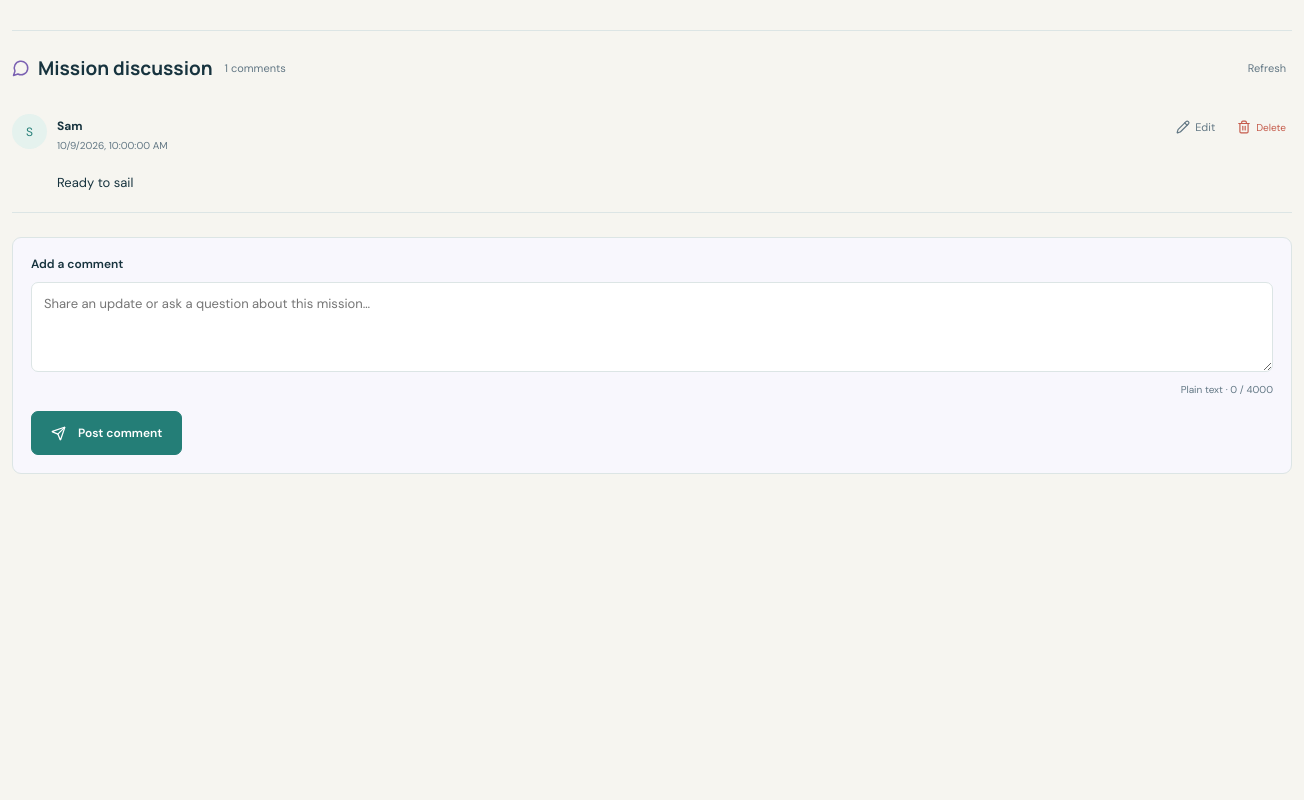
Scenario: Mission discussion › edits with the captured version and displays the edited marker
The image size is (1304, 800).
Click the button with aria-label "Edit comment by Sam" at [1196, 127], box [1170,119,1221,135]
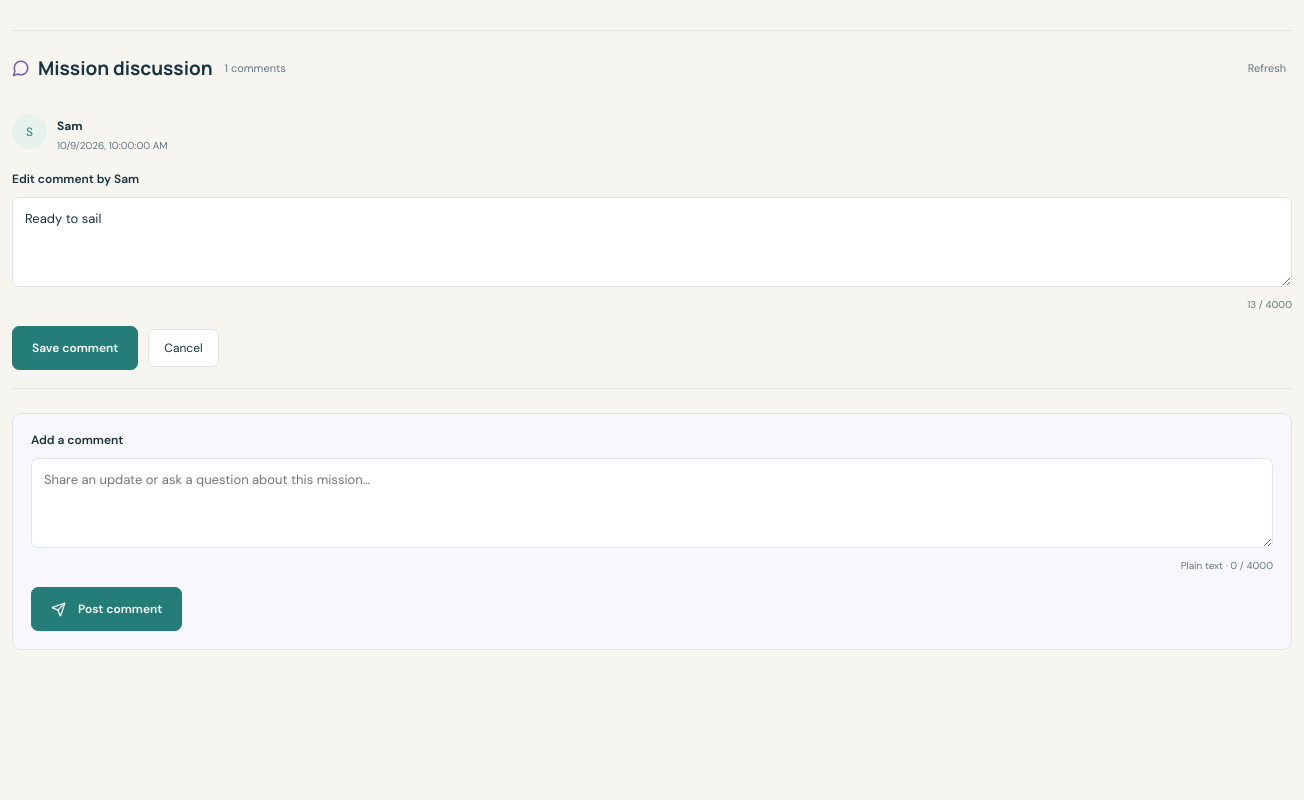
Replace the text in the text box labelled "Edit comment by Sam" with "New progress" at [652, 242], box [12,197,1292,287]
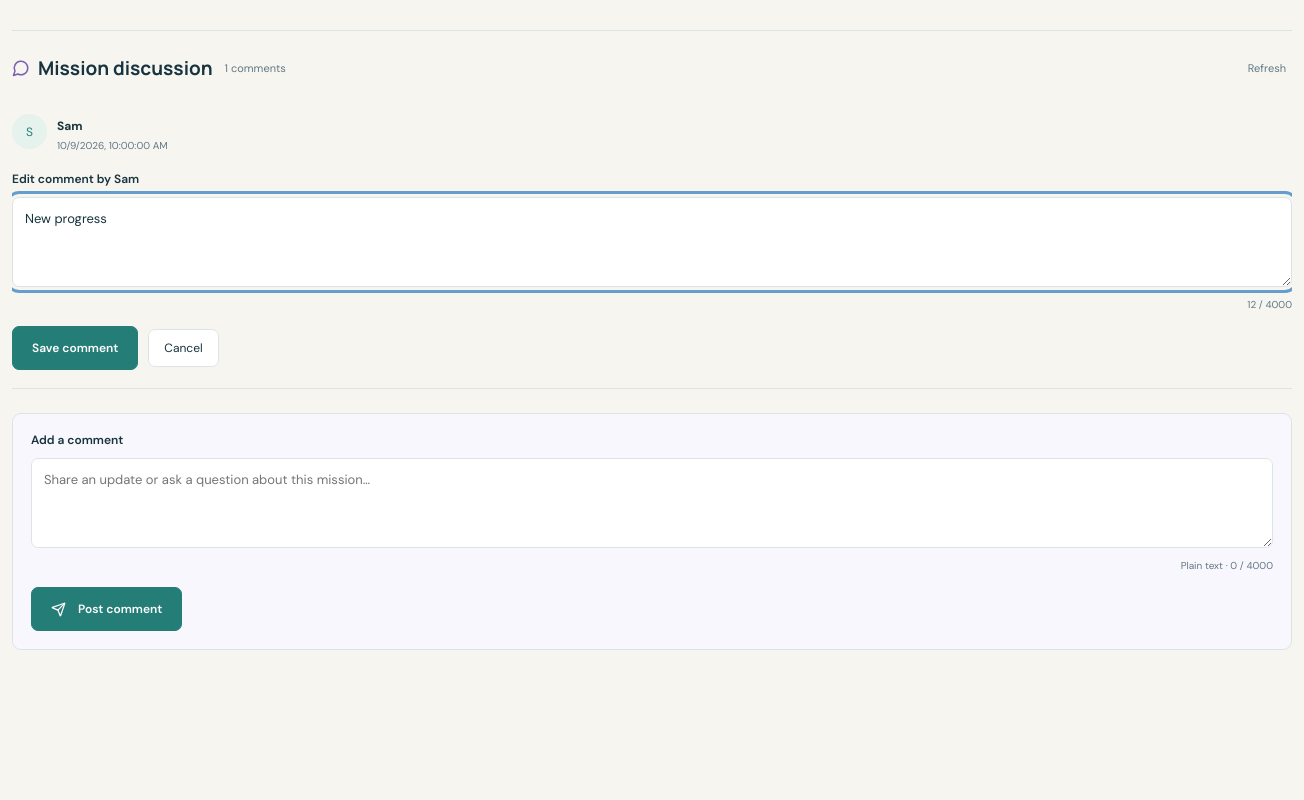
Click the button "Save comment" at [75, 348], box [12,326,138,370]
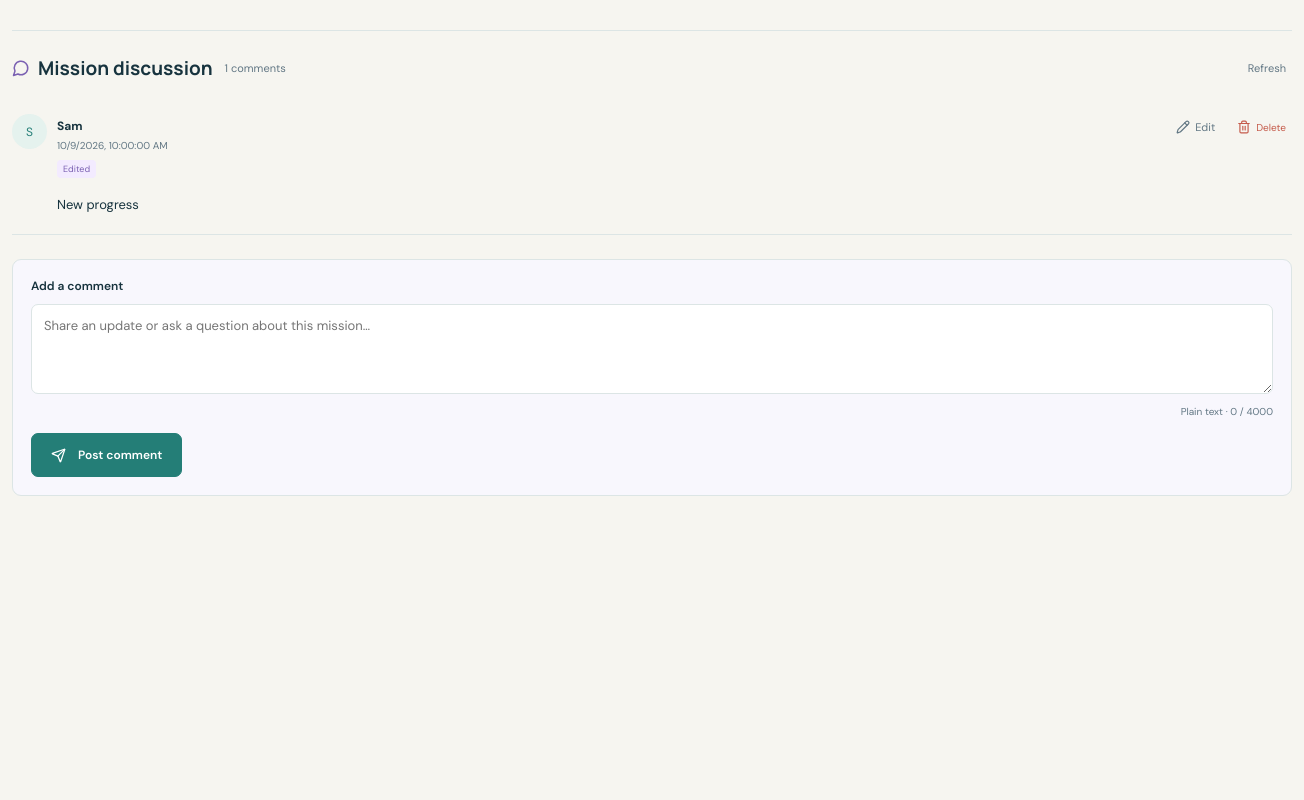
Result: the text "New progress" is shown at [57,196,139,213]
Result: the text "Edited" is shown at [57,160,96,178]
